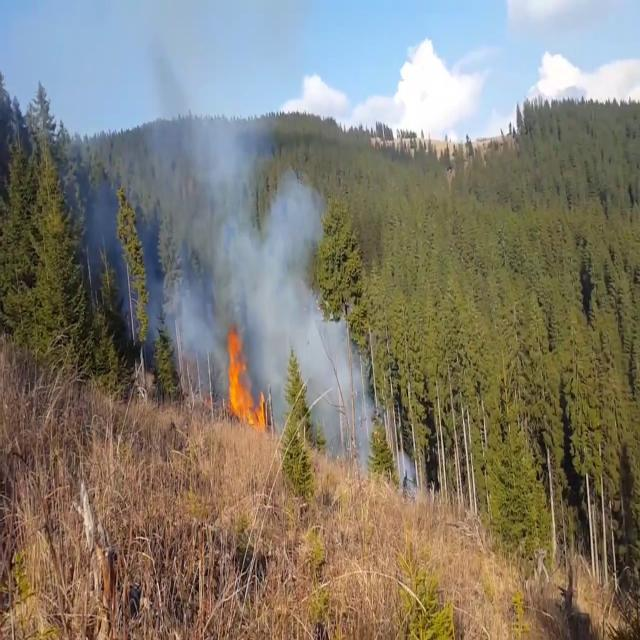Fire: (223, 314, 267, 430)
Smoke: (152, 44, 363, 435)
